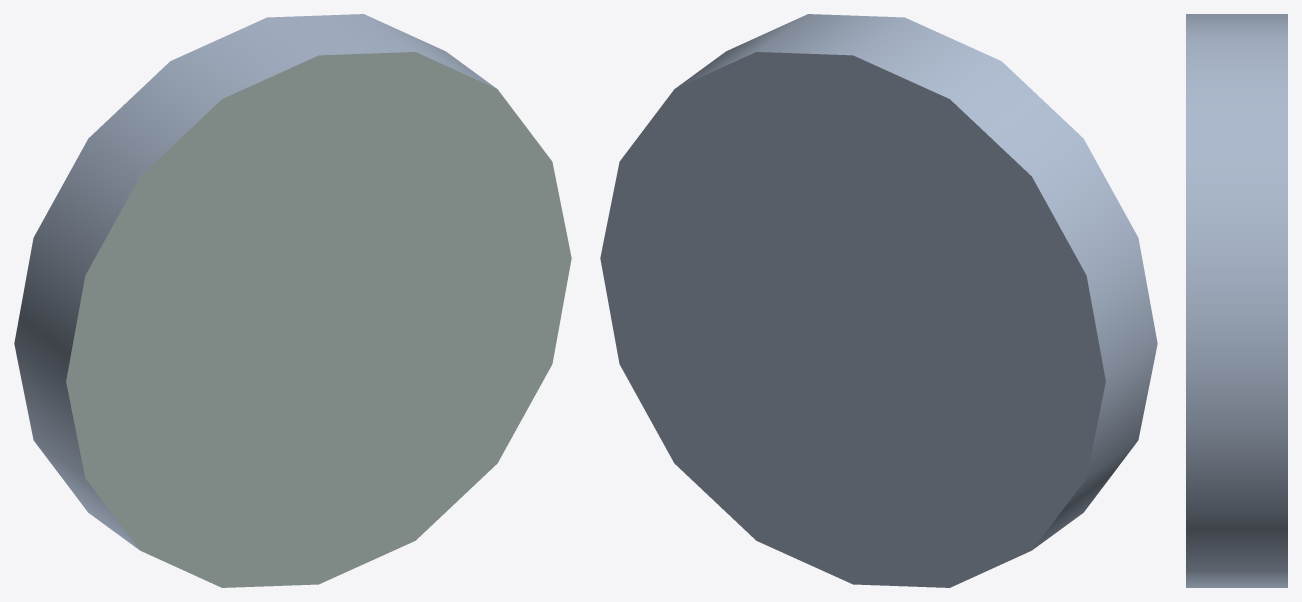
File: icub_l_shoulder_pitch_link.glb
The picture shows the model from 3 angles, left to right: view 1: azimuth 30°, elevation 25°; view 2: azimuth 150°, elevation 25°; view 3: azimuth 270°, elevation 25°; orthographic projection.
Visible parts, largest first — view 1: l_shoulder_1_mesh; view 2: l_shoulder_1_mesh; view 3: l_shoulder_1_mesh.
Boxes of the visible parts, x1,y1,x2,y2 form: l_shoulder_1_mesh: (14,14,571,587); l_shoulder_1_mesh: (600,14,1157,587); l_shoulder_1_mesh: (1186,14,1287,587).
Bounding box in the file's own units: 0.062 × 0.062 × 0.011.
